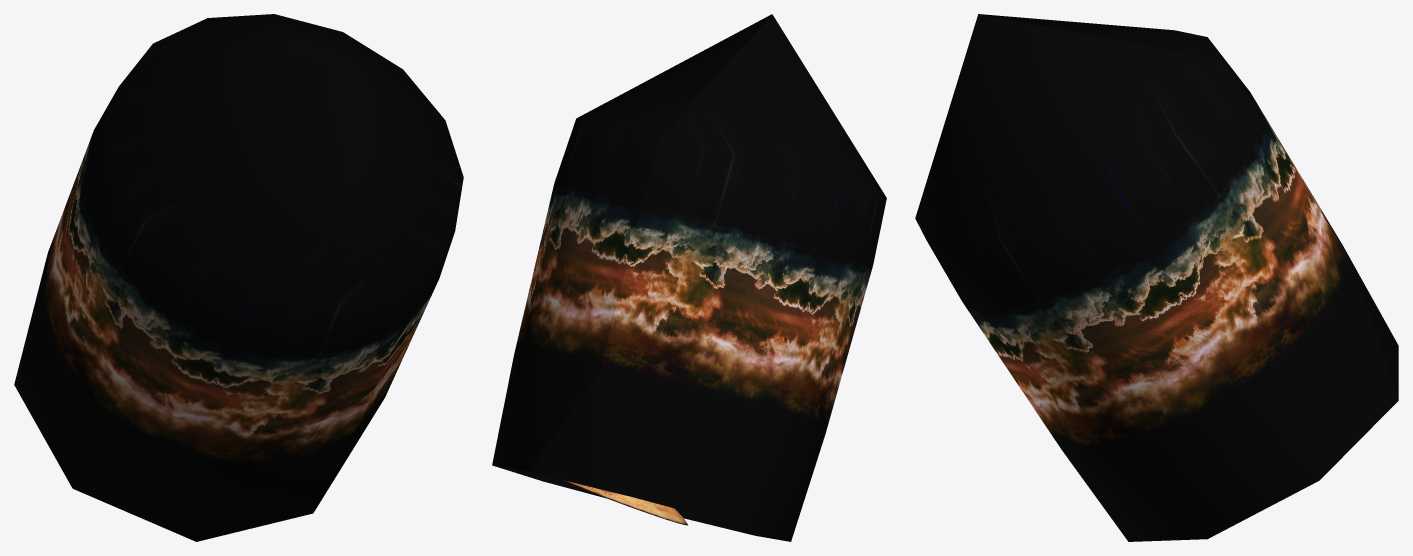
The model's file is Skybox 4 (Hang Castle).fbx.
3 views of the same model, side by side, from view 1: azimuth 30°, elevation 25°; view 2: azimuth 150°, elevation 25°; view 3: azimuth 270°, elevation 25° (orthographic). The views are drawn at different scales.
Parts seen in each view (by area): view 1: Object_2.043; view 2: Object_2.043; view 3: Object_2.043.
Boxes of the visible parts, <box> form: Object_2.043: <box>14,14,463,541</box>; Object_2.043: <box>492,14,886,541</box>; Object_2.043: <box>915,14,1398,541</box>.
Bounding box in the file's own units: 2250000 × 3449083 × 3019235.
